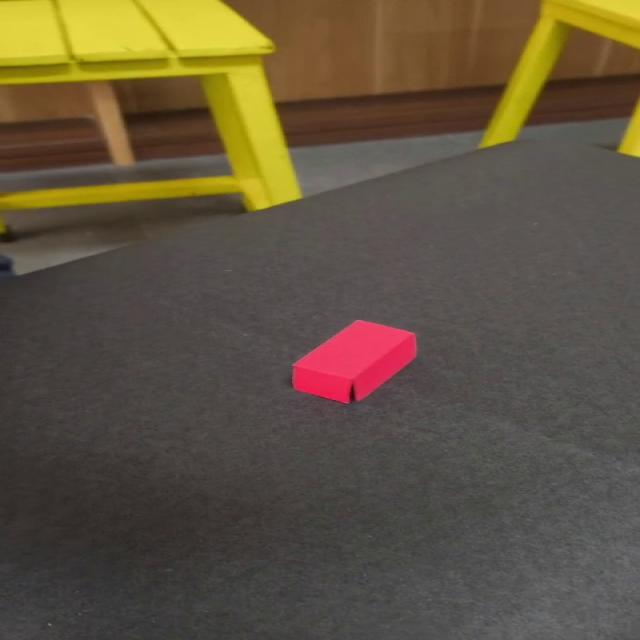red block: (290, 318, 418, 404)
